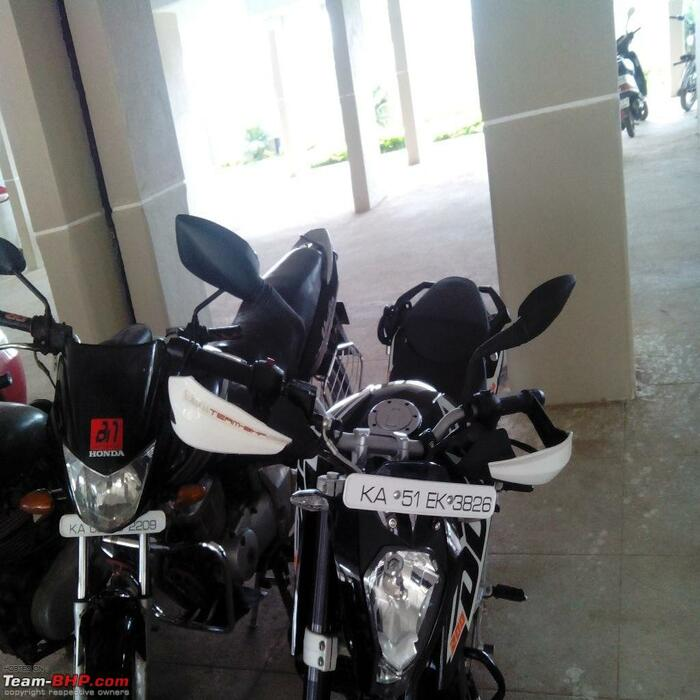n: (339, 476, 497, 527), (60, 517, 164, 536)
